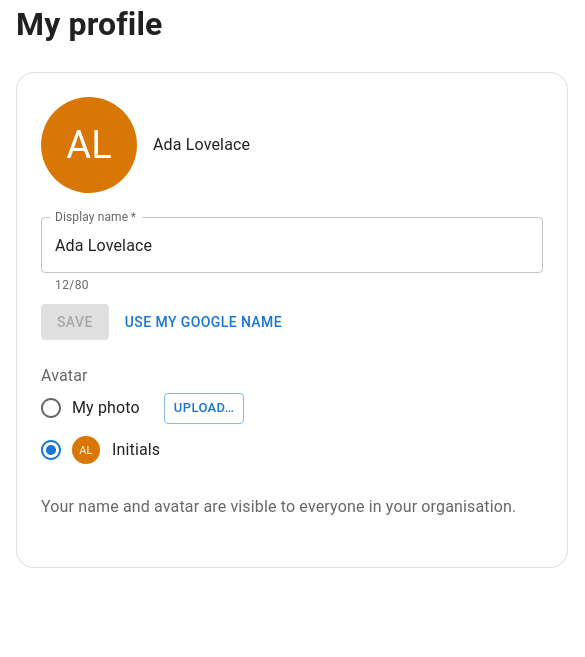
Test: ProfilePage › tells there is no Google name yet
Click the button "Use my Google name" at [203, 322], box [117,304,290,340]
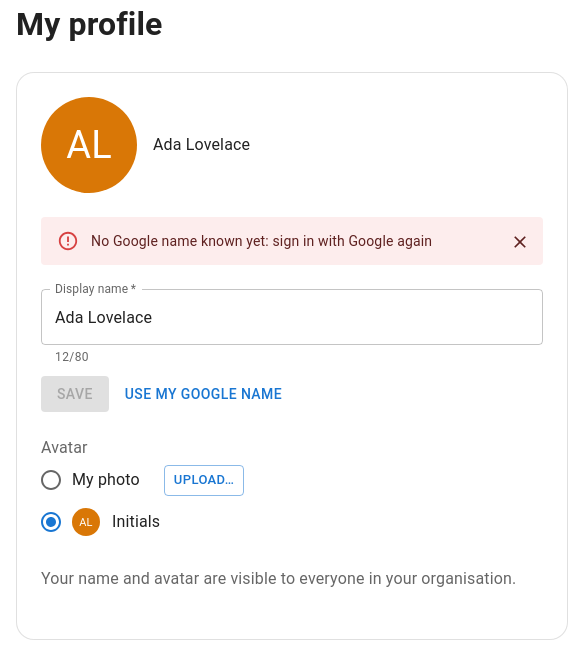
Now the message reads "No Google name known yet: sign in with Google again", box [91,233,432,249]
